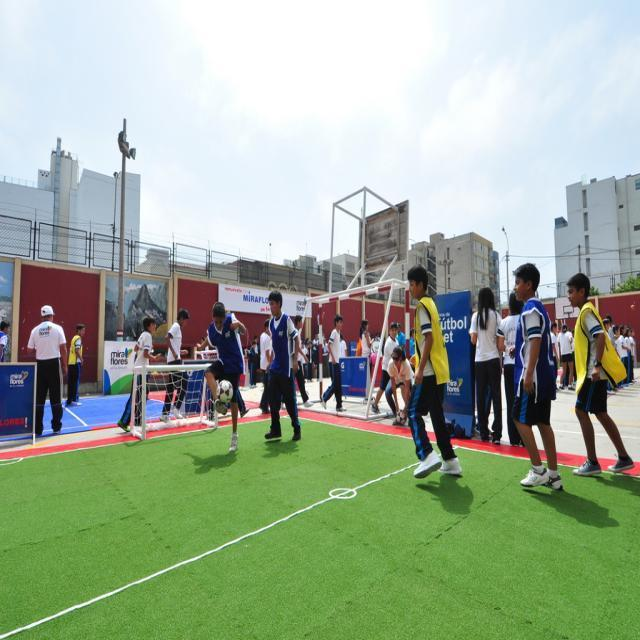football: (209, 378, 239, 410)
